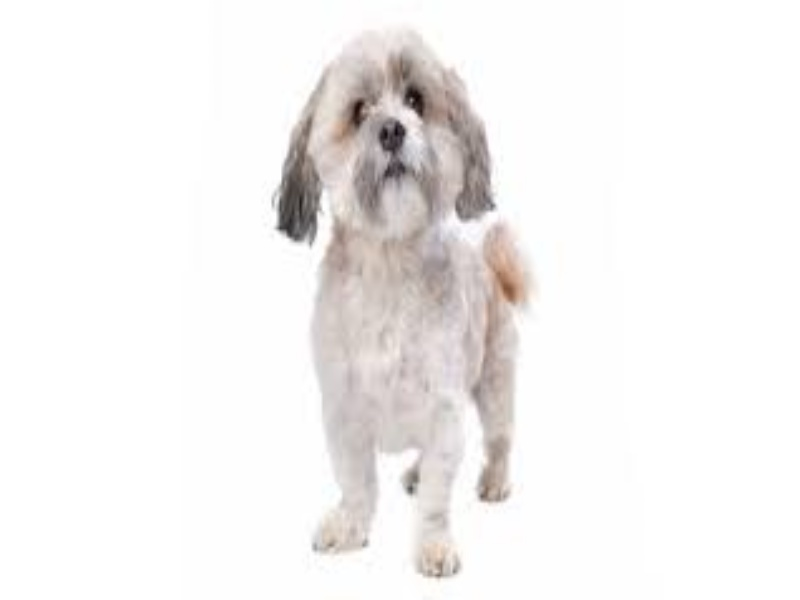dog: (228, 9, 635, 586)
